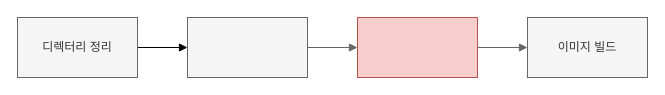
The diagram is 665 pixels wide and 95 high, and some of its shapes have lost their labels. Here are the shapes that lost their labels. From the top down, the box of each, then its label:
(186, 16, 308, 78): requirements.txt 파일 작성
(356, 16, 478, 78): Dockerfile 파일 작성
